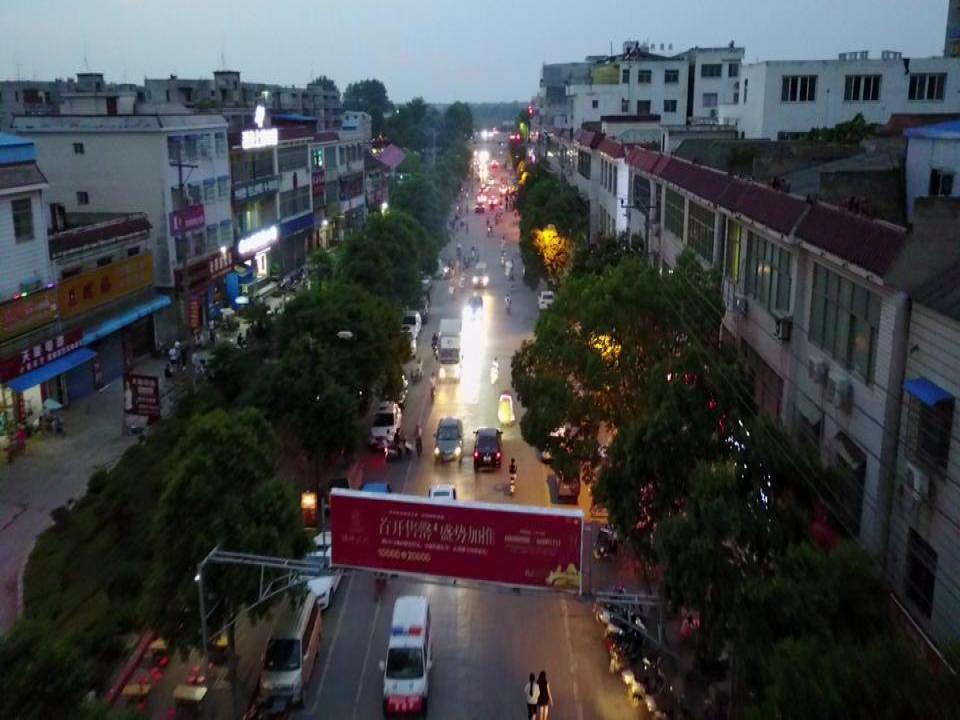car: (288, 528, 350, 611), (427, 483, 460, 542), (539, 404, 568, 463), (369, 400, 402, 447), (433, 416, 464, 464), (472, 426, 504, 470), (394, 322, 417, 358), (406, 293, 429, 324), (399, 310, 421, 342), (464, 295, 483, 321), (537, 288, 556, 311)
truck: (437, 313, 464, 383)
van: (258, 592, 324, 712), (377, 593, 434, 719)
